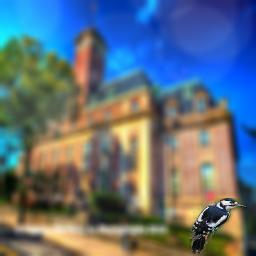Woodpecker: (189, 198, 247, 254)
